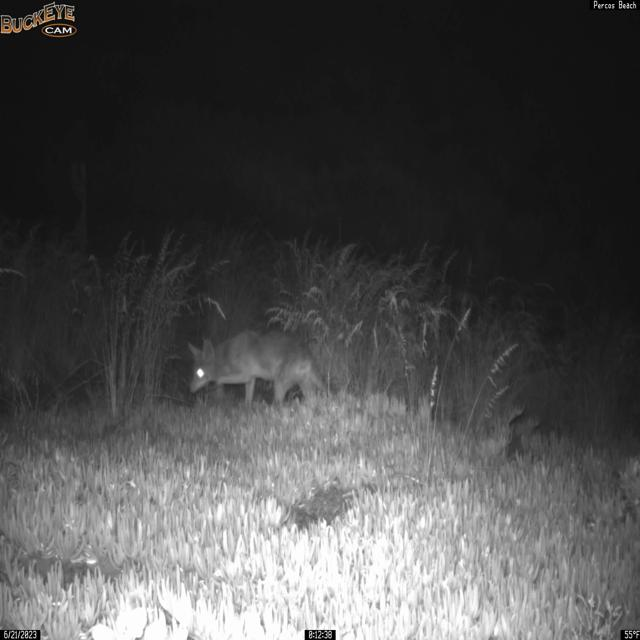coyote: (187, 328, 332, 408)
